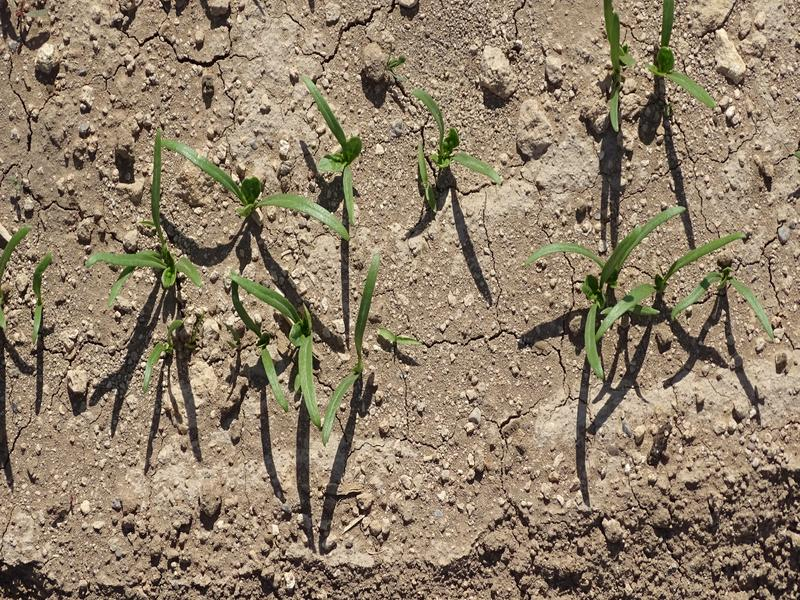Espinaca: (105, 248, 386, 427), (535, 208, 774, 380), (143, 89, 363, 240), (595, 4, 715, 137), (405, 94, 509, 193), (34, 254, 53, 332)
